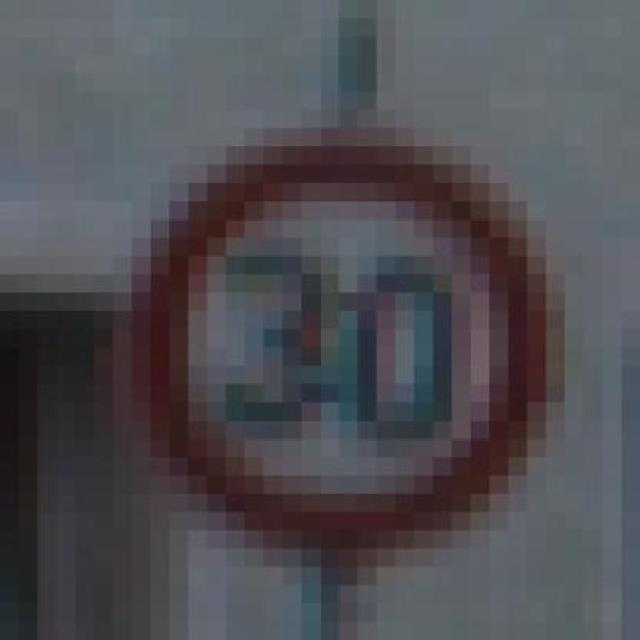forb_speed_over_30: (150, 142, 544, 555)
